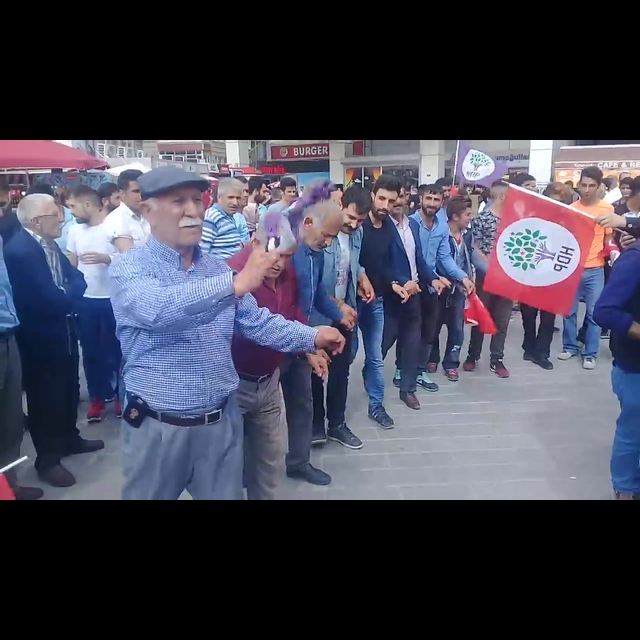HDP: (500, 224, 555, 278), (464, 149, 491, 173)
